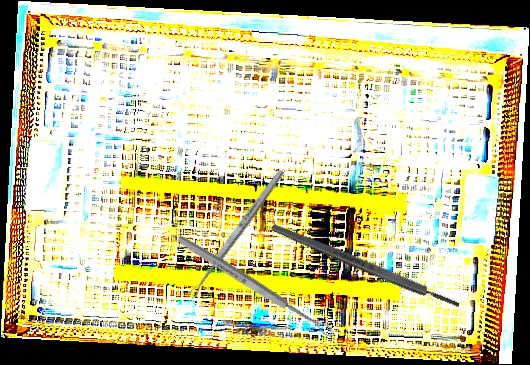Scalpel Handle: (270, 221, 462, 311)
Surgical Spoon: (174, 232, 336, 340), (186, 167, 286, 301)
